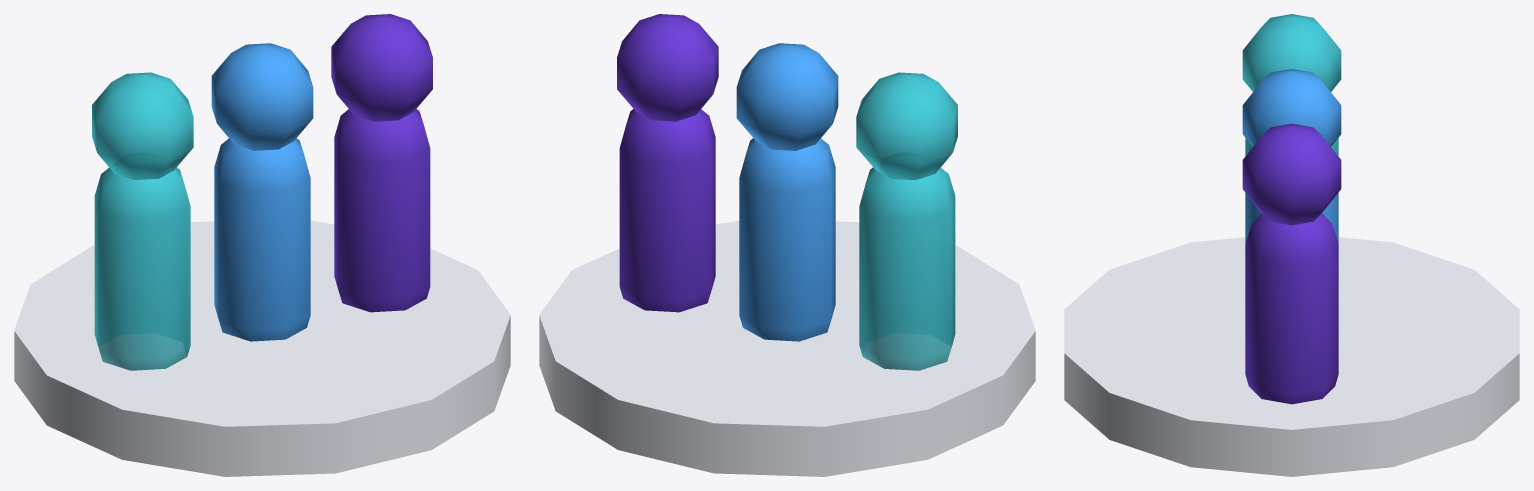
The model's file is EchoClones.fbx.
3 renders of one model, left to right at view 1: azimuth 30°, elevation 25°; view 2: azimuth 150°, elevation 25°; view 3: azimuth 270°, elevation 25°, orthographic. The views are drawn at different scales.
Visible parts, largest first — view 1: EchoClones; view 2: EchoClones; view 3: EchoClones.
Boxes of the visible parts, bbox=[...] form: EchoClones: bbox=[14, 14, 510, 476]; EchoClones: bbox=[539, 14, 1035, 476]; EchoClones: bbox=[1064, 14, 1519, 476].
Size of the model in its own units: 0.18 by 0.13 by 0.1755.
